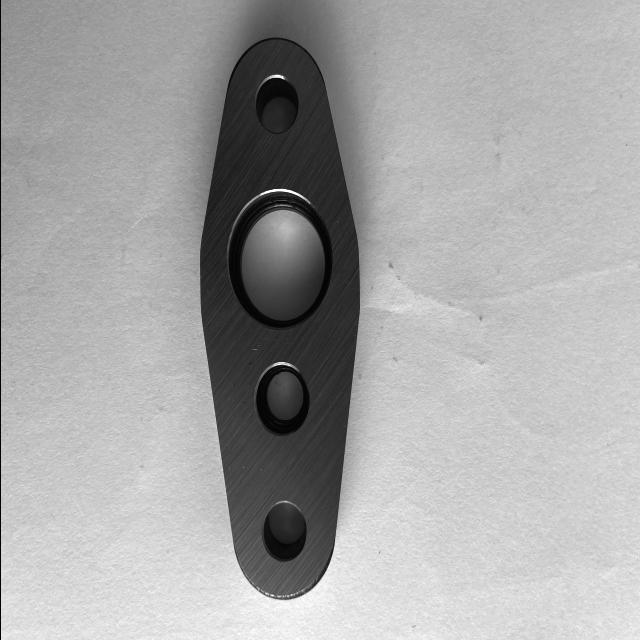chap: (246, 360, 254, 371), (249, 346, 259, 354), (226, 464, 232, 474), (228, 382, 234, 390), (204, 288, 210, 296), (240, 464, 244, 469), (258, 468, 262, 472)
